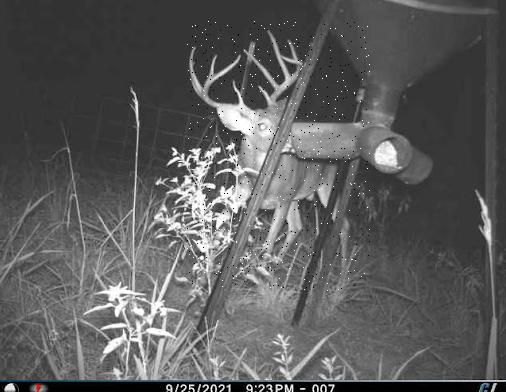Deer: (187, 21, 370, 291)
